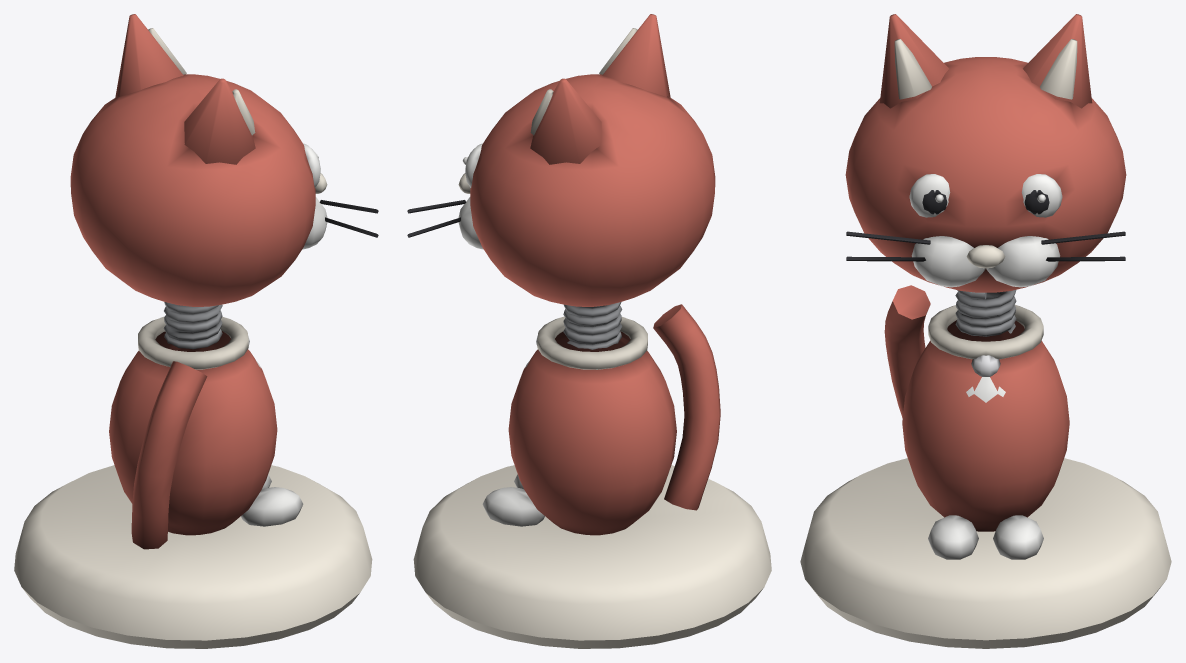
File: nd_bobble_4.glb
3 renders of one model, left to right at view 1: azimuth 30°, elevation 25°; view 2: azimuth 150°, elevation 25°; view 3: azimuth 270°, elevation 25°, orthographic. The views are drawn at different scales.
Parts seen in each view (by area): view 1: PART, N_head; view 2: PART, N_head; view 3: PART, N_head.
Part boxes in pixels (x1=…): PART: x1=14, y1=302, x2=372, y2=648; N_head: x1=70, y1=14, x2=378, y2=306; PART: x1=413, y1=302, x2=771, y2=648; N_head: x1=407, y1=14, x2=715, y2=306; PART: x1=800, y1=285, x2=1171, y2=648; N_head: x1=845, y1=14, x2=1126, y2=292.
Bounding box in the file's own units: 0.08 × 0.1314 × 0.08.
